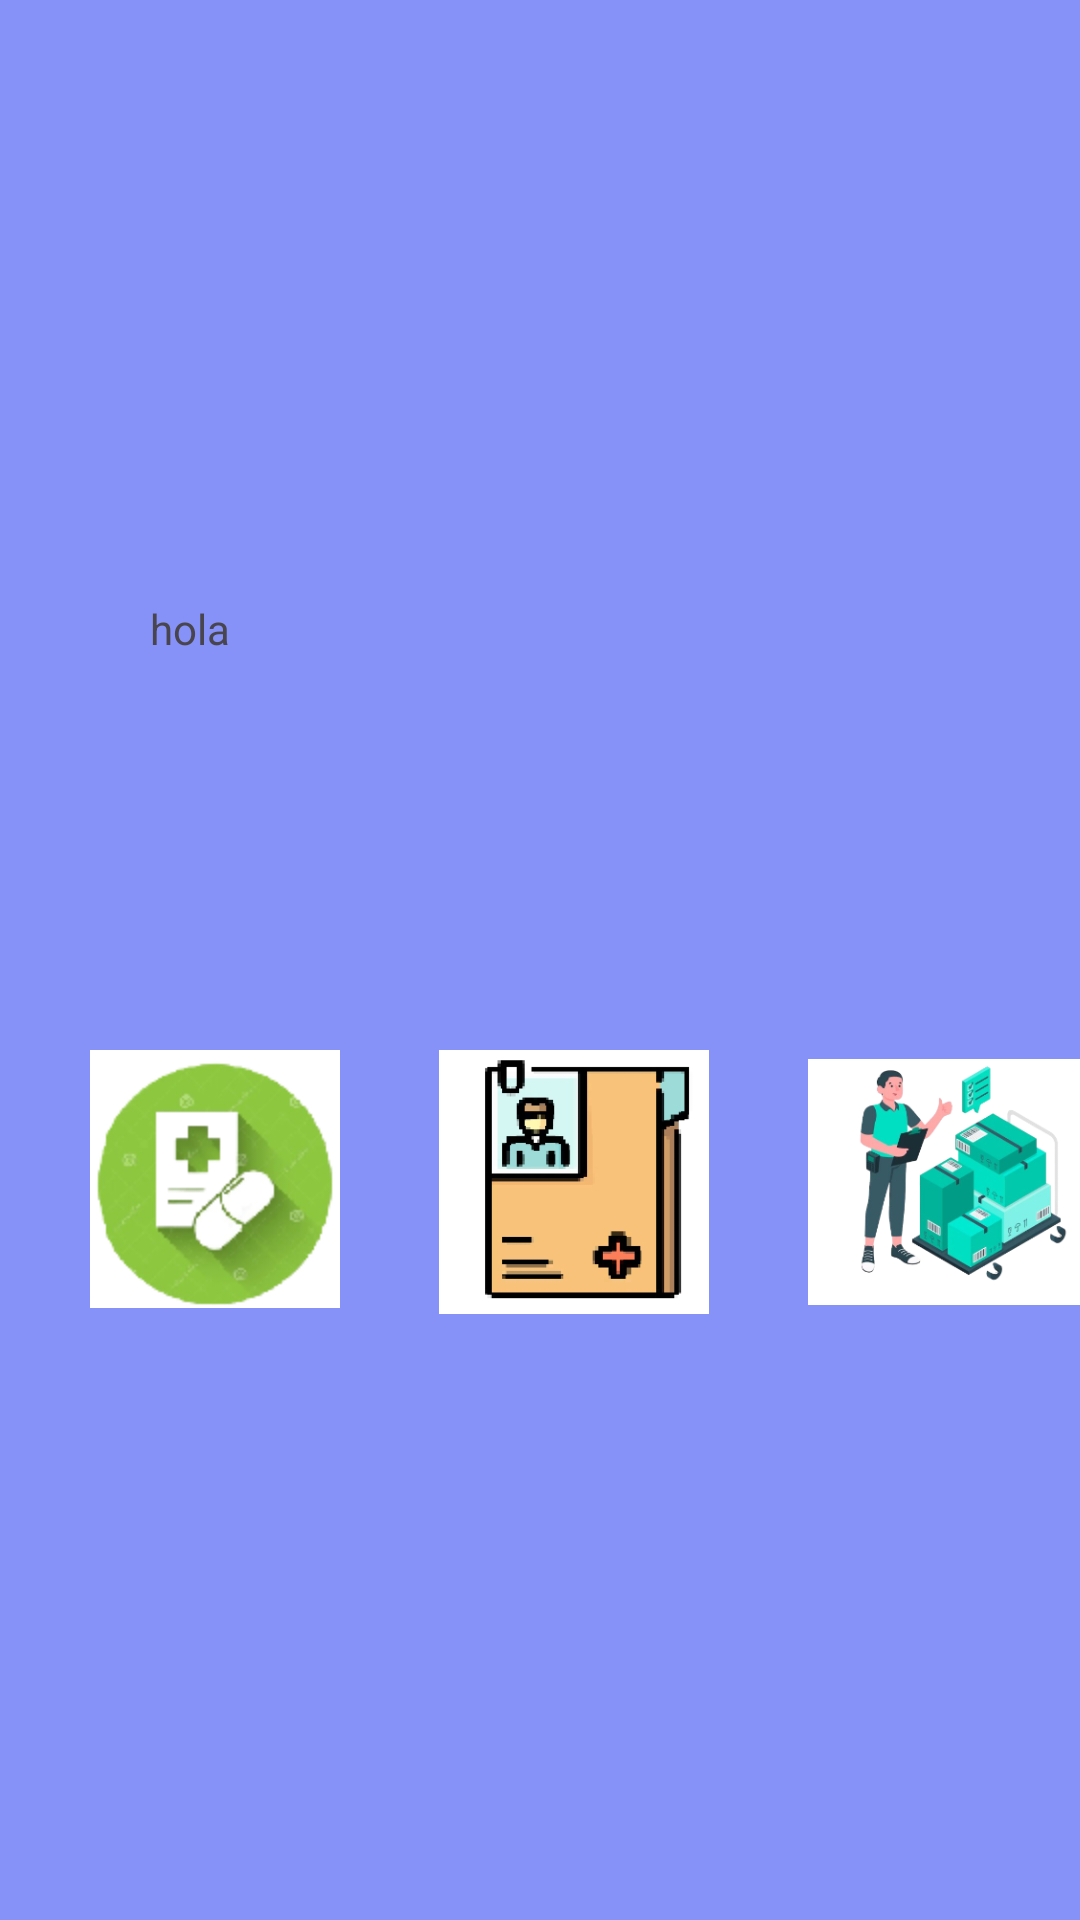

Where icons sit on this 1080x1920 app screen, as bbox=[x1, y1, x2, y2]:
agregarformulas: bbox=[90, 1050, 340, 1308]
consultarhistorial: bbox=[439, 1050, 709, 1314]
